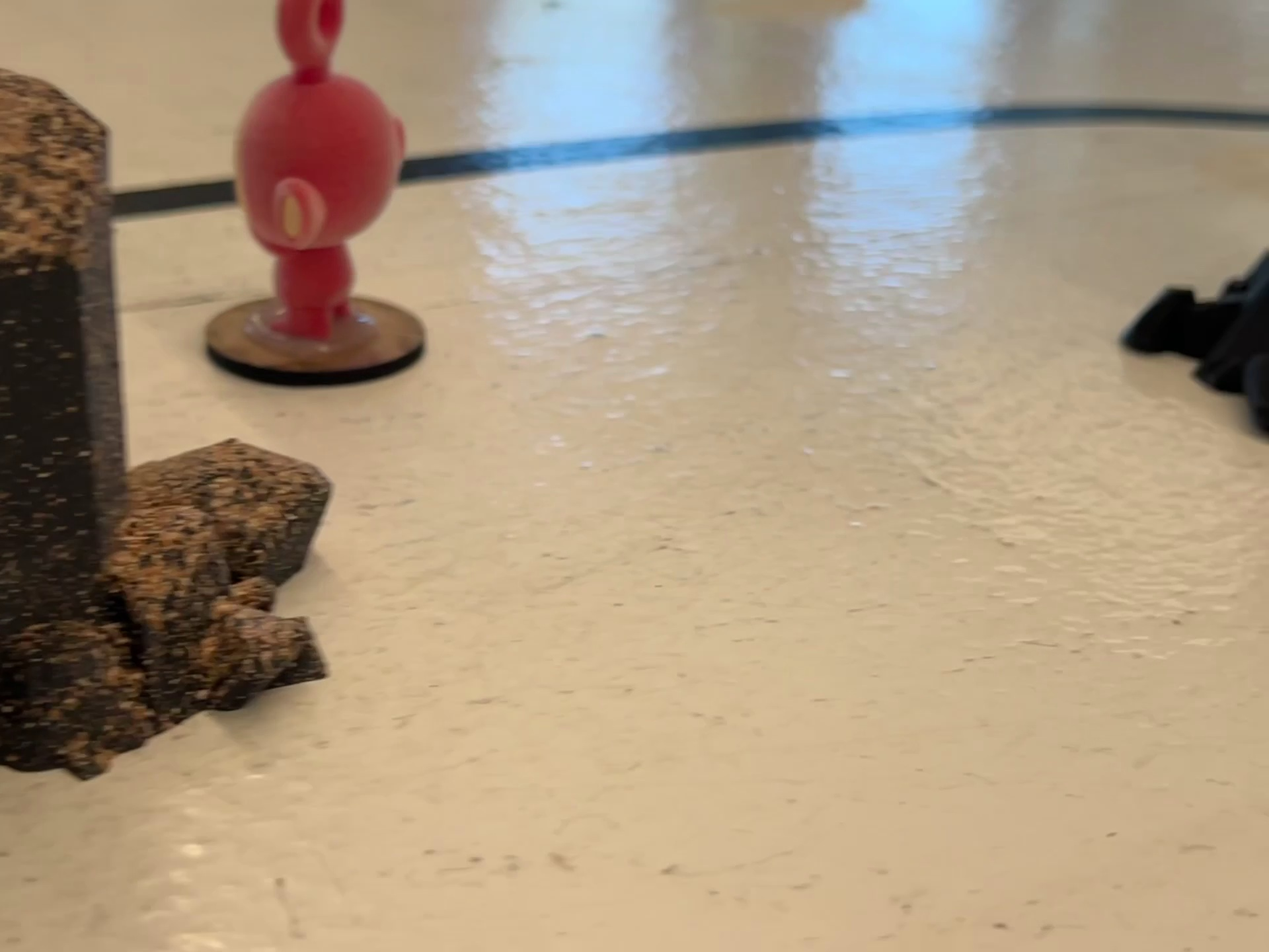teletubby: (235, 0, 405, 348)
